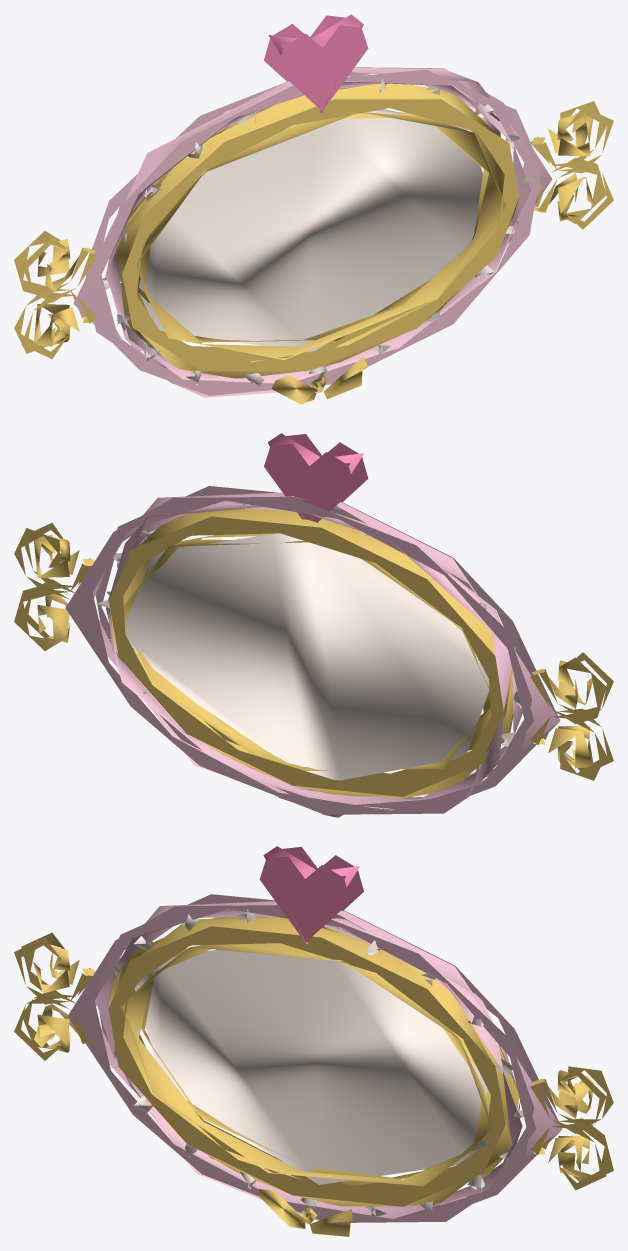
File: lod_sign_frame.glb
The picture shows the model from 3 angles, top to bottom: view 1: azimuth 30°, elevation 25°; view 2: azimuth 150°, elevation 25°; view 3: azimuth 330°, elevation 25°; orthographic projection.
Visible parts, largest first — view 1: sign_frame; view 2: sign_frame; view 3: sign_frame.
Part boxes in pixels (left/top/right/bottom): sign_frame: left=14, top=14, right=613, bottom=404; sign_frame: left=14, top=433, right=613, bottom=817; sign_frame: left=14, top=846, right=613, bottom=1236.
Bounding box in the file's own units: 3.25 × 1.95 × 0.165.
